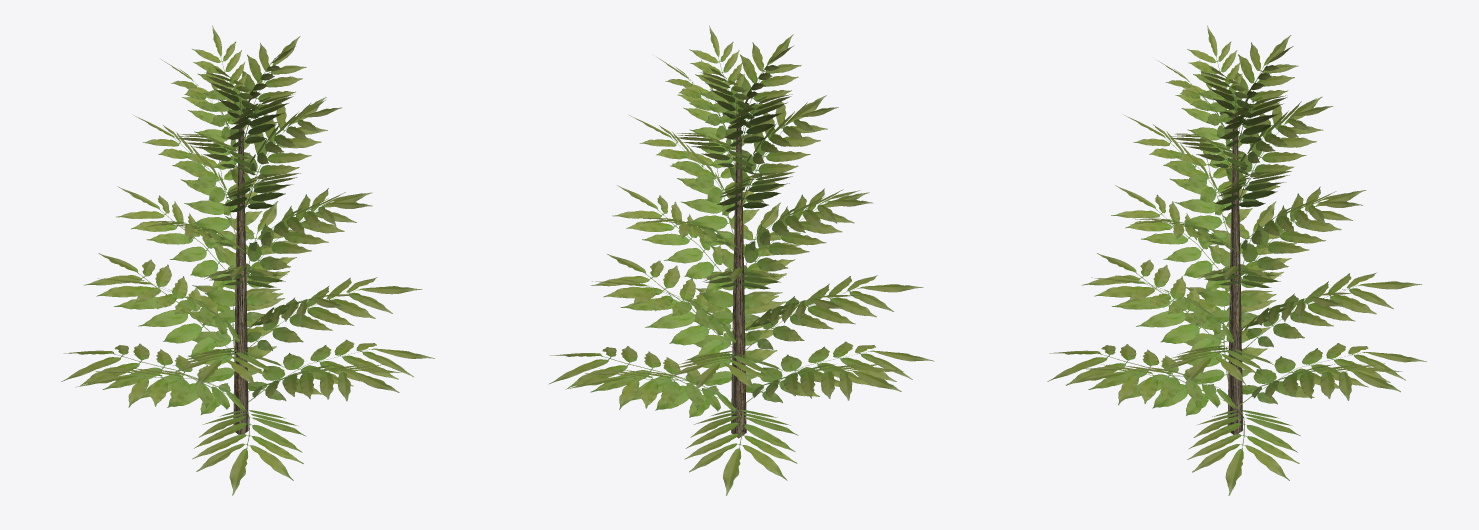
Rendered from plant5.FBX.
3 views of the same model, side by side, from view 1: azimuth 30°, elevation 25°; view 2: azimuth 150°, elevation 25°; view 3: azimuth 270°, elevation 25° (orthographic).
Visible parts, largest first — view 1: Cylinder001; view 2: Cylinder001; view 3: Cylinder001.
Part boxes in pixels (x1,y1,x2,y2): Cylinder001: (61, 25, 434, 495); Cylinder001: (548, 25, 934, 495); Cylinder001: (1047, 25, 1426, 495).
Bounding box in the file's own units: 2.66 × 2.61 × 2.81.
